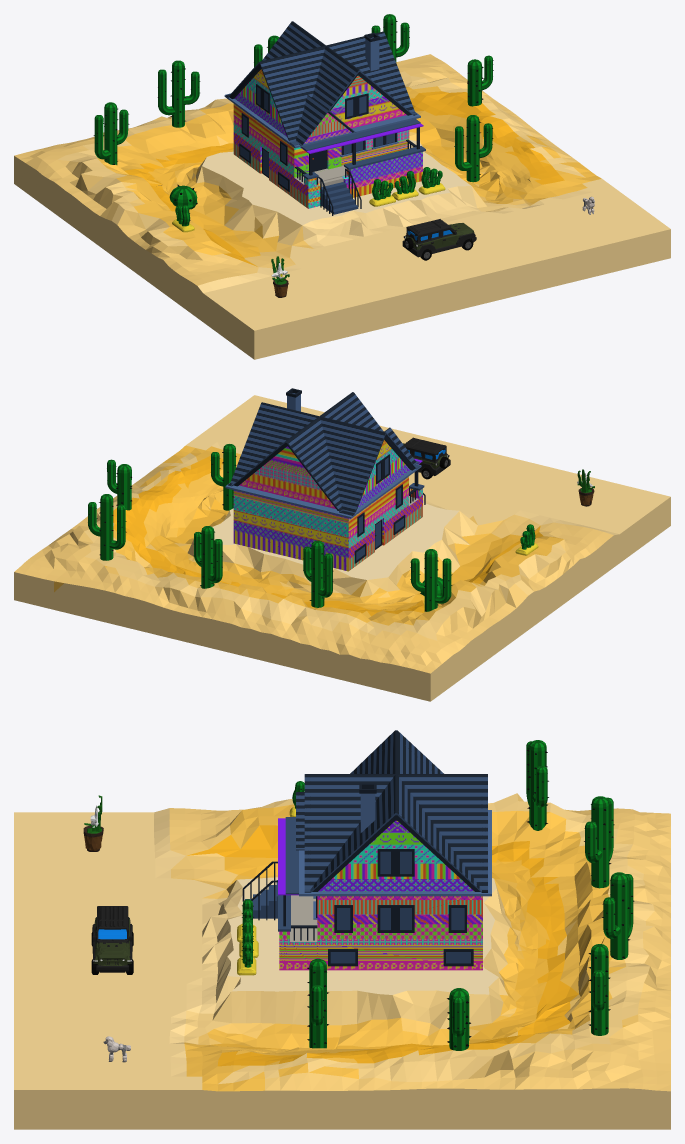
3 renders of one model, top to bottom at view 1: azimuth 30°, elevation 25°; view 2: azimuth 150°, elevation 25°; view 3: azimuth 270°, elevation 25°, orthographic. The views are drawn at different scales.
Visible parts, largest first — view 1: Cube.001, Cube.676, VEHICLES_JEEP, Cylinder.037, Cylinder.044, Cylinder.045, Cylinder.038, Cylinder.042, Cylinder.039, Cylinder.041, OBJRANDOM_MONJA BLANCA, Sphere.023 (+1 smaller); view 2: Cube.001, Cube.676, Cylinder.042, Cylinder.045, Cylinder.044, Cylinder.043, VEHICLES_JEEP, Cylinder.037, Cylinder.038; view 3: Cube.001, Cube.676, VEHICLES_JEEP, Cylinder.043, Cylinder.044, Cylinder.045, Cylinder.042, Cylinder.037, Cylinder.038, OBJRANDOM_MONJA BLANCA, Cylinder.041.
Boxes of the visible parts, bbox=[...] form: Cube.001: bbox=[14, 54, 670, 359]; Cube.676: bbox=[224, 21, 425, 215]; VEHICLES_JEEP: bbox=[402, 219, 476, 260]; Cylinder.037: bbox=[454, 115, 493, 182]; Cylinder.044: bbox=[157, 60, 200, 127]; Cylinder.045: bbox=[93, 102, 129, 164]; Cylinder.038: bbox=[467, 55, 493, 106]; Cylinder.042: bbox=[371, 14, 409, 62]; Cylinder.039: bbox=[369, 179, 395, 206]; Cylinder.041: bbox=[418, 167, 445, 194]; OBJRANDOM_MONJA BLANCA: bbox=[271, 256, 289, 297]; Sphere.023: bbox=[169, 184, 197, 209]; Cube.001: bbox=[14, 395, 670, 701]; Cube.676: bbox=[225, 388, 425, 571]; Cylinder.042: bbox=[88, 494, 126, 560]; Cylinder.045: bbox=[410, 549, 452, 611]; Cylinder.044: bbox=[303, 540, 333, 607]; Cylinder.043: bbox=[193, 526, 222, 588]; VEHICLES_JEEP: bbox=[403, 437, 450, 479]; Cylinder.037: bbox=[211, 444, 240, 510]; Cylinder.038: bbox=[107, 459, 131, 510]; Cube.001: bbox=[14, 793, 670, 1129]; Cube.676: bbox=[242, 730, 491, 970]; VEHICLES_JEEP: bbox=[91, 906, 133, 974]; Cylinder.043: bbox=[602, 872, 634, 959]; Cylinder.044: bbox=[584, 796, 614, 888]; Cylinder.045: bbox=[526, 740, 548, 830]; Cylinder.042: bbox=[588, 944, 610, 1035]; Cylinder.037: bbox=[307, 958, 328, 1048]; Cylinder.038: bbox=[447, 988, 471, 1050]; OBJRANDOM_MONJA BLANCA: bbox=[83, 795, 103, 851]; Cylinder.041: bbox=[237, 932, 256, 975].
Bounding box in the file's own units: 4002 × 1779 × 4001.
Materials: 34 (6 with a texture image).
